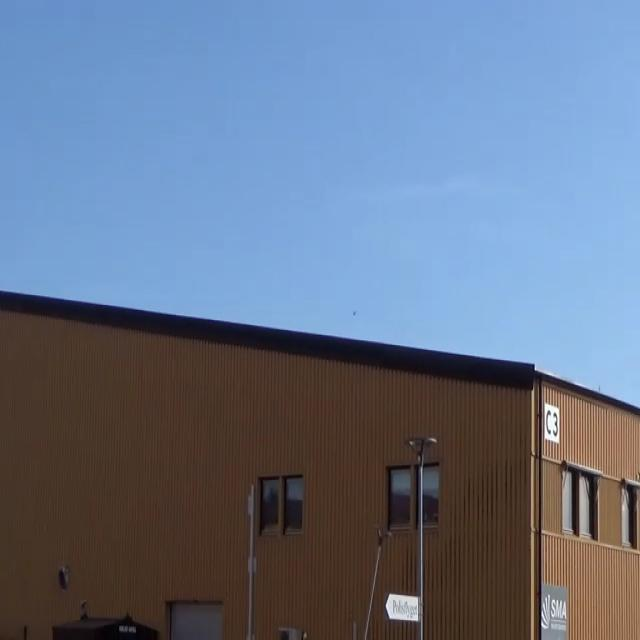Helicopter: (341, 298, 367, 327)
